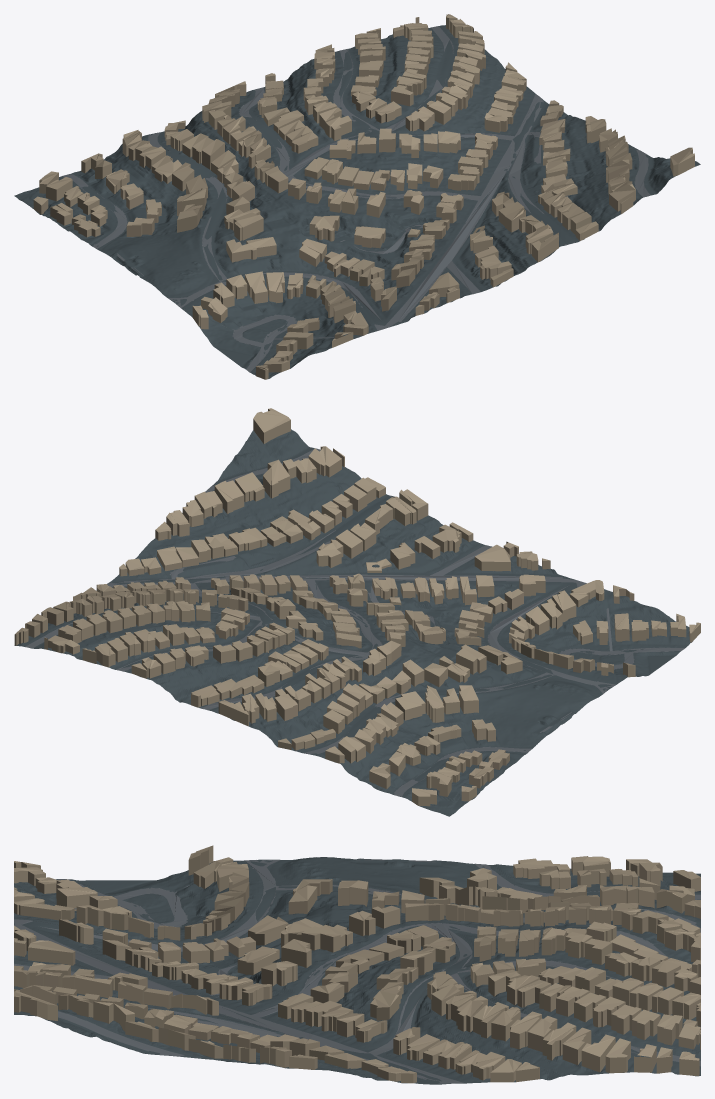
The model's file is epsg26910-1425-10876.lod0.glb.
3 renders of one model, top to bottom at view 1: azimuth 30°, elevation 25°; view 2: azimuth 150°, elevation 25°; view 3: azimuth 270°, elevation 25°, orthographic. The views are drawn at different scales.
Parts seen in each view (by area): view 1: epsg26910-1425-10876-lod0; view 2: epsg26910-1425-10876-lod0; view 3: epsg26910-1425-10876-lod0.
Part boxes in pixels (left/top/right/bottom): epsg26910-1425-10876-lod0: left=14, top=14, right=700, bottom=379; epsg26910-1425-10876-lod0: left=14, top=408, right=700, bottom=816; epsg26910-1425-10876-lod0: left=14, top=845, right=700, bottom=1084.
Size of the model in its own units: 384 by 105 by 384.
